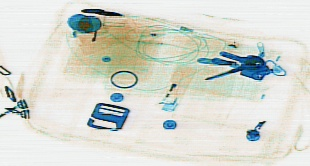lighter: (156, 58, 196, 111)
